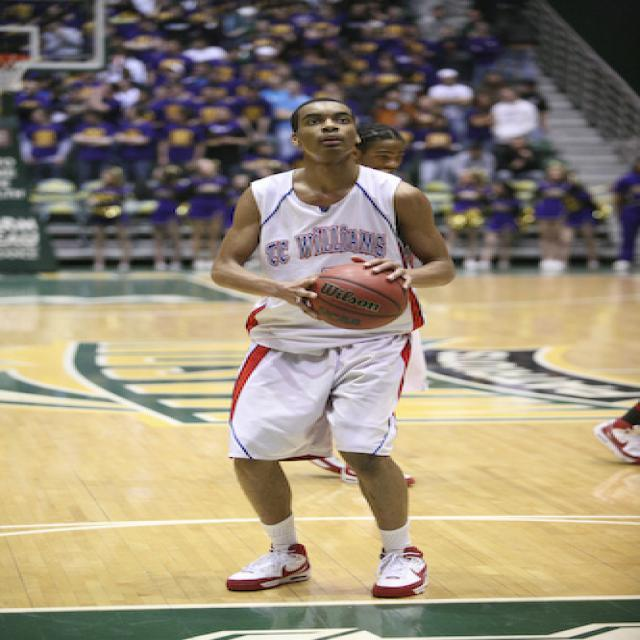basketball: (306, 262, 412, 330)
